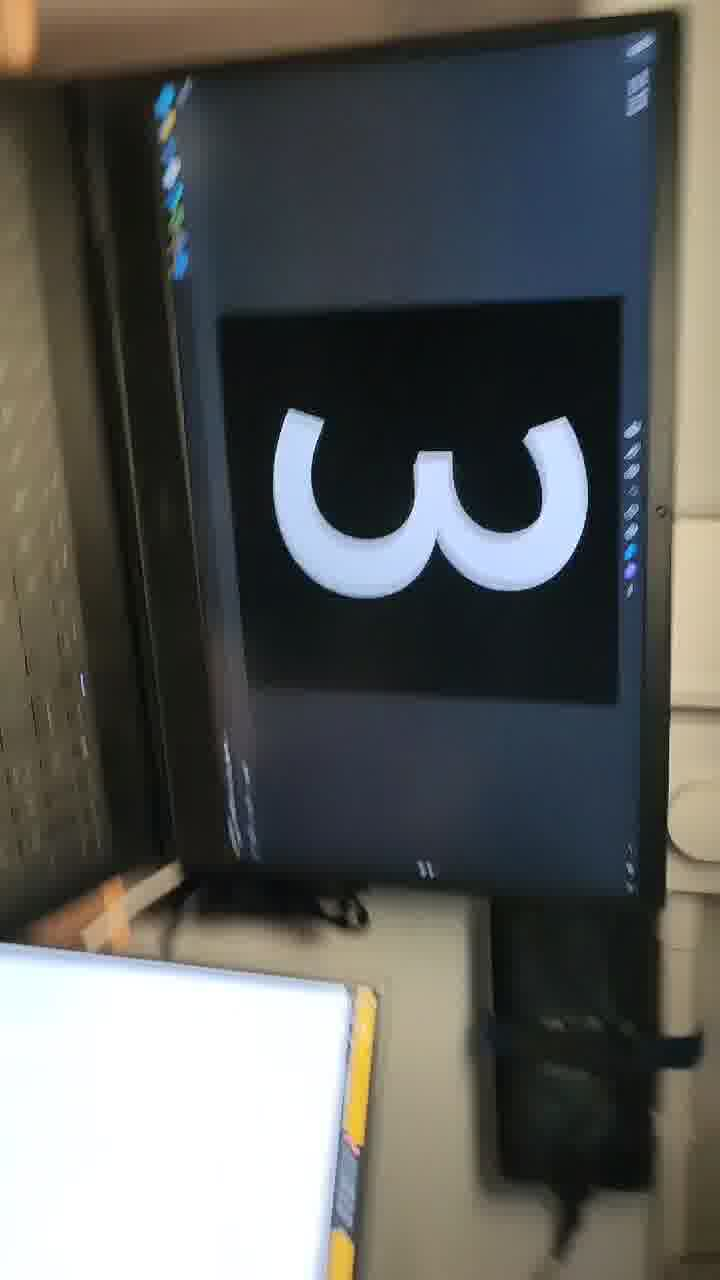three: (248, 367, 643, 725)
